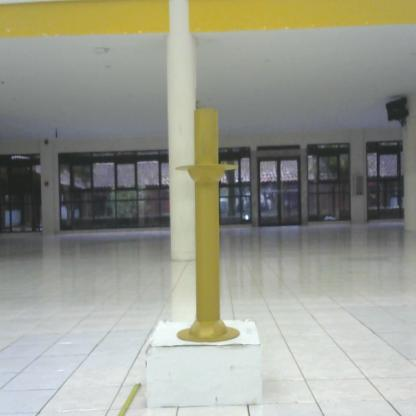pole: (167, 109, 245, 347)
